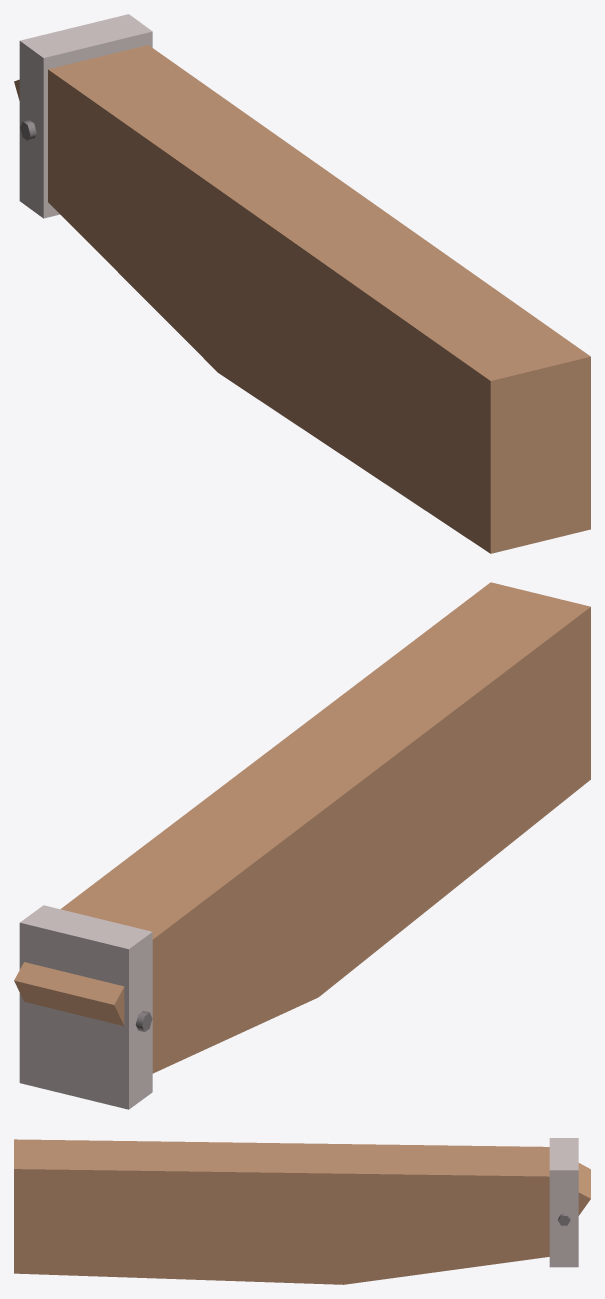
File: bolt_sniper_handguard.glb
The picture shows the model from 3 angles, top to bottom: view 1: azimuth 30°, elevation 25°; view 2: azimuth 150°, elevation 25°; view 3: azimuth 270°, elevation 25°; orthographic projection. The views are drawn at different scales.
Parts seen in each view (by area): view 1: handguard; view 2: handguard; view 3: handguard.
Part boxes in pixels (<box>): handguard: <box>14,14,590,553</box>; handguard: <box>14,582,590,1109</box>; handguard: <box>14,1138,590,1284</box>.
Size of the model in its own units: 0.0414 by 0.062 by 0.28.
